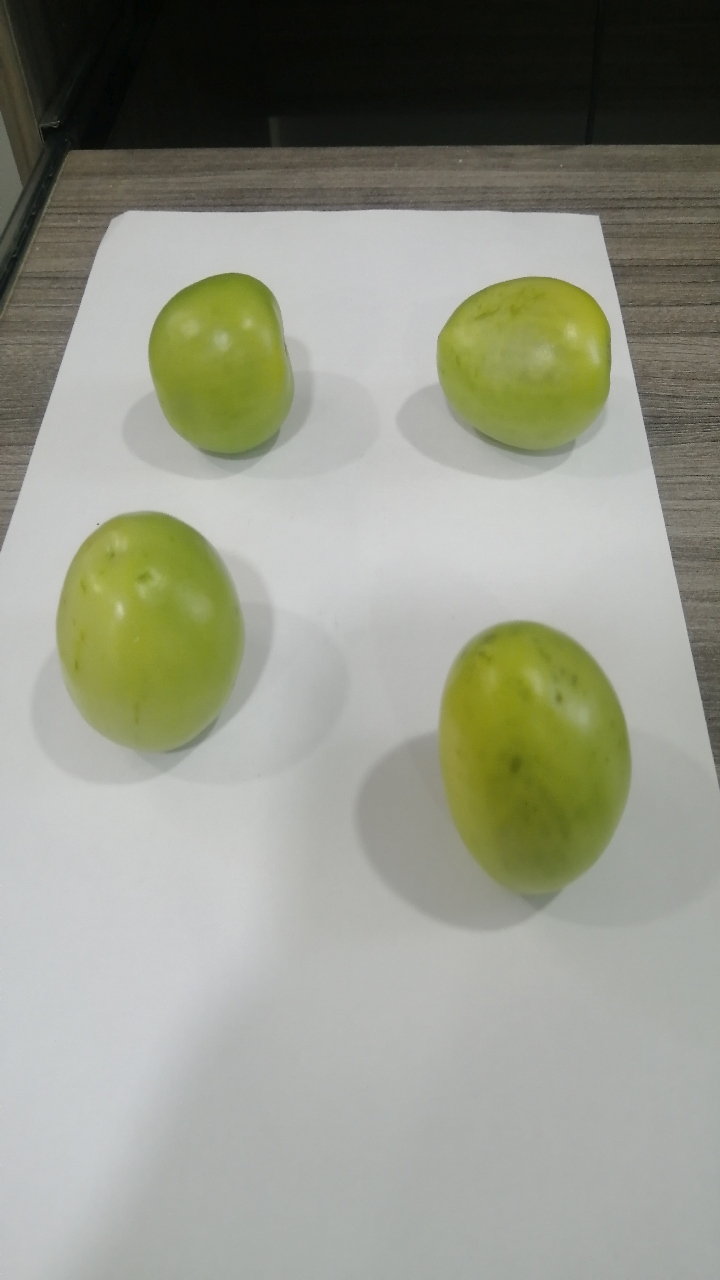tomateVerde: (31, 488, 283, 792), (424, 602, 643, 908), (124, 255, 328, 483), (420, 263, 626, 465)
